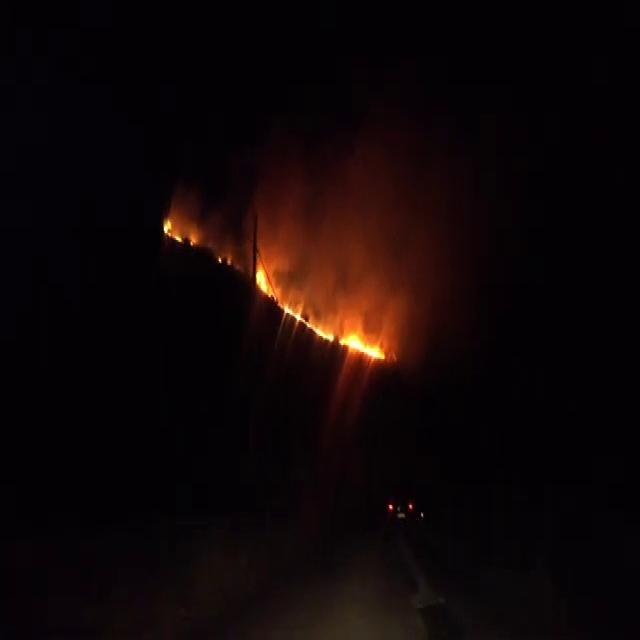Fire: (283, 302, 334, 343), (338, 325, 384, 363), (255, 260, 274, 298), (162, 217, 173, 235)
Smoke: (380, 288, 407, 353), (172, 204, 198, 236)
